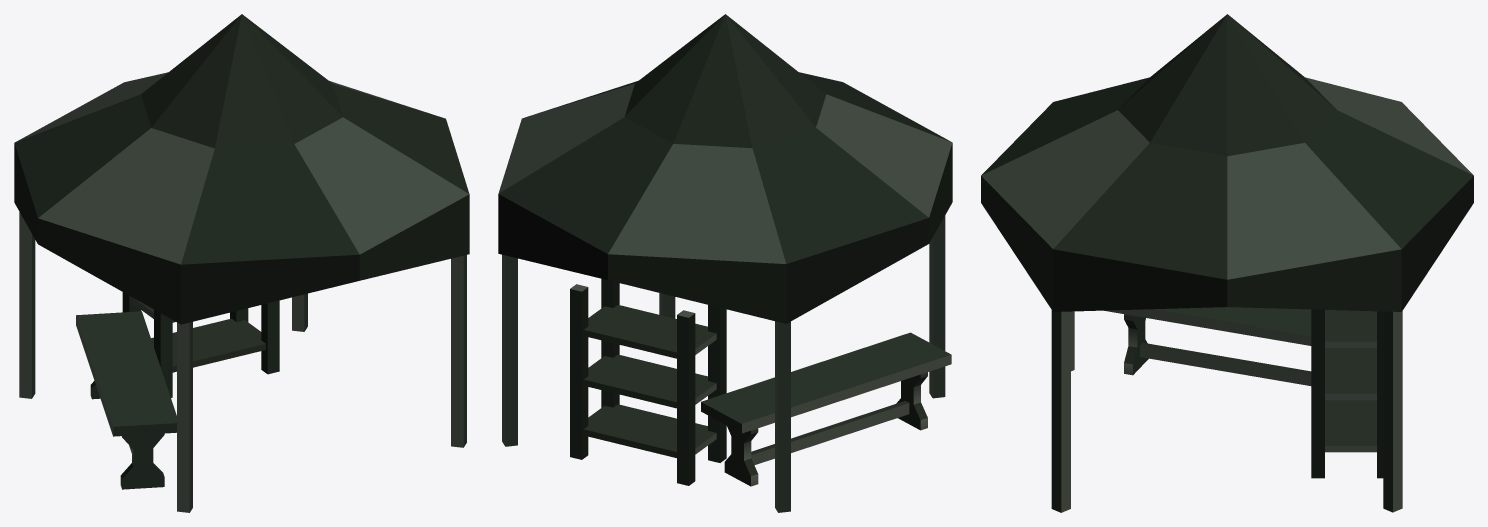
Rendered from SF_Bld_Tent_03.glb.
3 renders of one model, left to right at view 1: azimuth 30°, elevation 25°; view 2: azimuth 150°, elevation 25°; view 3: azimuth 270°, elevation 25°, orthographic. The views are drawn at different scales.
Parts seen in each view (by area): view 1: SF_Bld_Tent_03; view 2: SF_Bld_Tent_03; view 3: SF_Bld_Tent_03.
Boxes of the visible parts, x1,y1,x2,y2 form: SF_Bld_Tent_03: [14, 14, 469, 512]; SF_Bld_Tent_03: [498, 14, 952, 512]; SF_Bld_Tent_03: [981, 14, 1473, 512].
Size of the model in its own units: 0.0685 by 0.0651 by 0.0685.
1 material, 1 textured.
